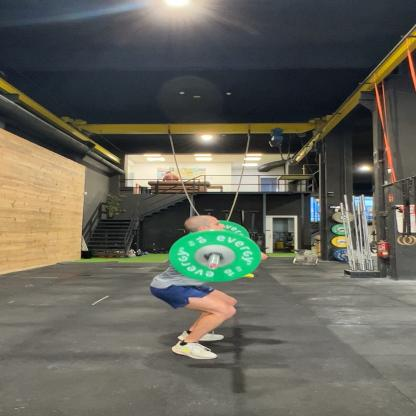barbell: (170, 231, 263, 283)
